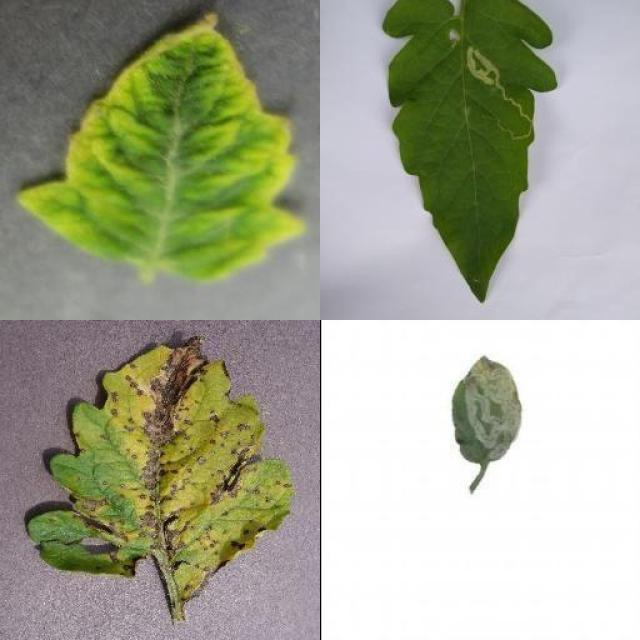Septoria: (29, 335, 292, 596)
